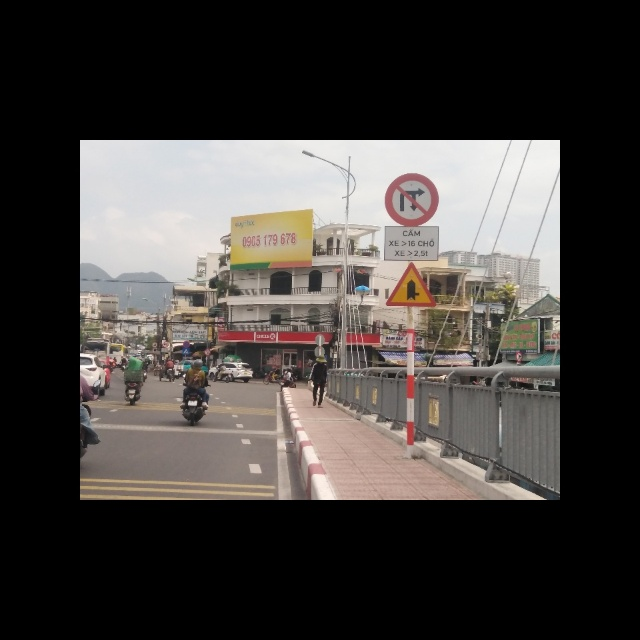Cấm quay đầu và rẽ phải: (385, 172, 438, 227)
Giao nhau với đường không ưu tiên: (385, 263, 434, 308)
